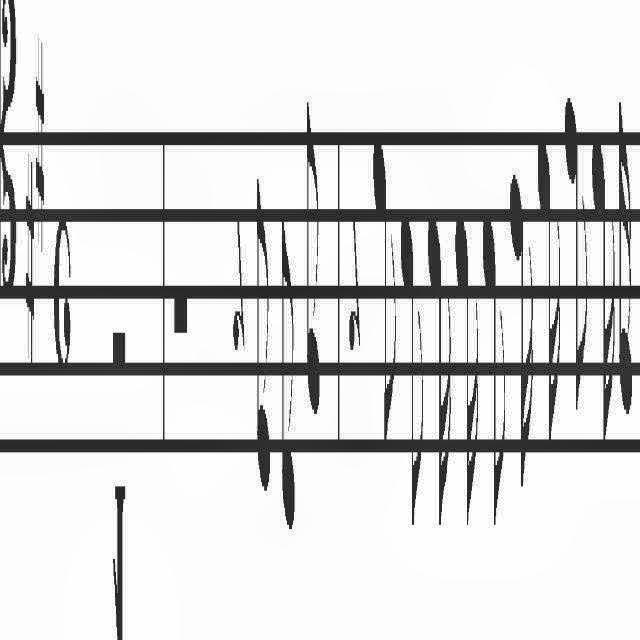Diez: (34, 38, 46, 258), (24, 158, 36, 374)
Eighth-note: (399, 203, 425, 532), (563, 90, 589, 417), (372, 115, 396, 449), (482, 210, 506, 530), (279, 198, 297, 542), (305, 82, 323, 424), (256, 159, 272, 501)
Eighth-rest: (232, 212, 246, 366), (348, 220, 360, 356)
Sixteenth-note: (426, 200, 452, 534), (536, 135, 562, 449), (510, 172, 534, 500), (454, 210, 478, 530), (592, 135, 616, 451), (618, 90, 632, 418)
